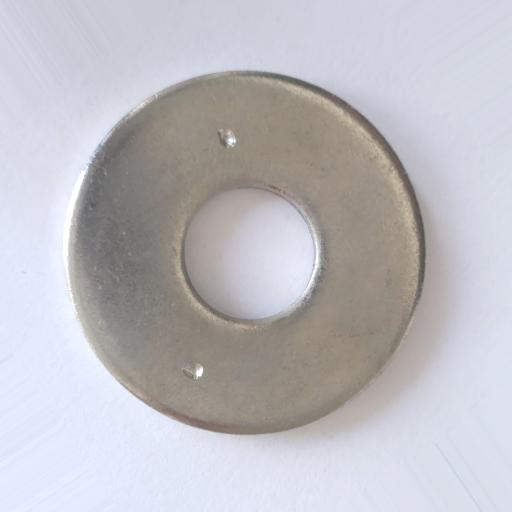circular_cavity: (183, 361, 204, 380), (219, 129, 237, 148)
